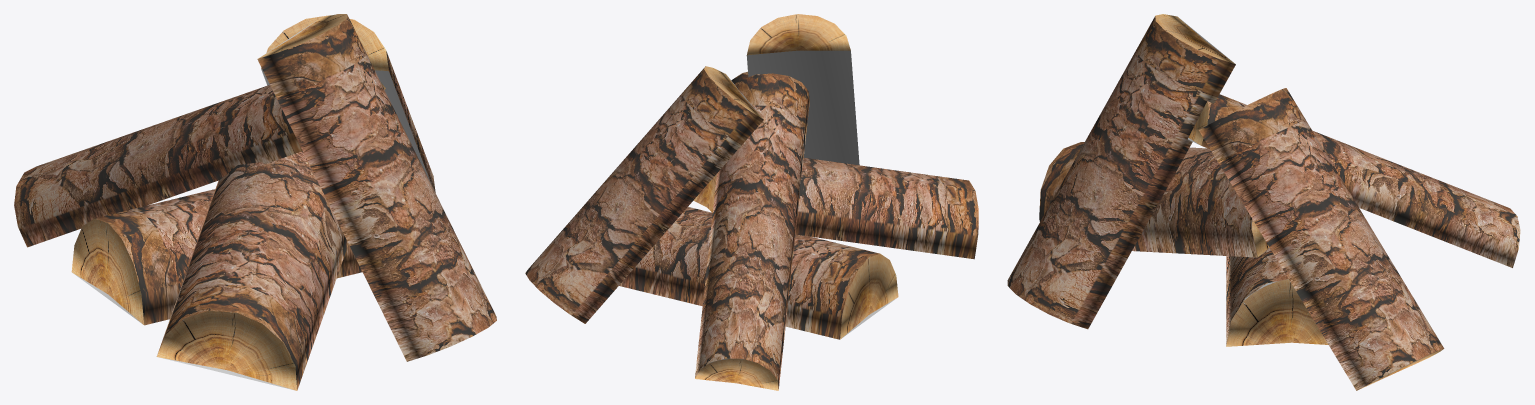
File: campfire.fbx
The picture shows the model from 3 angles, left to right: view 1: azimuth 30°, elevation 25°; view 2: azimuth 150°, elevation 25°; view 3: azimuth 270°, elevation 25°; orthographic projection. The views are drawn at different scales.
Visible parts, largest first — view 1: pasted__pasted__pasted__log (×2), pasted__pasted__pasted__pasted__pasted__log, pasted__pasted__log, pasted__pasted__pasted__pasted__log; view 2: pasted__pasted__pasted__log (×2), pasted__pasted__pasted__pasted__log, pasted__pasted__log, pasted__pasted__pasted__pasted__pasted__log; view 3: pasted__pasted__pasted__pasted__log, pasted__pasted__pasted__pasted__pasted__log, pasted__pasted__pasted__log (×2), pasted__pasted__log.
Part boxes in pixels (x1=…): pasted__pasted__pasted__log (×2): x1=14, y1=82, x2=385, y2=390; pasted__pasted__pasted__pasted__pasted__log: x1=257, y1=14, x2=496, y2=361; pasted__pasted__log: x1=71, y1=189, x2=362, y2=325; pasted__pasted__pasted__pasted__log: x1=261, y1=15, x2=435, y2=192; pasted__pasted__pasted__log (×2): x1=693, y1=71, x2=978, y2=390; pasted__pasted__pasted__pasted__log: x1=525, y1=66, x2=763, y2=323; pasted__pasted__log: x1=619, y1=207, x2=898, y2=339; pasted__pasted__pasted__pasted__pasted__log: x1=746, y1=14, x2=859, y2=165; pasted__pasted__pasted__pasted__log: x1=1198, y1=88, x2=1444, y2=390; pasted__pasted__pasted__pasted__pasted__log: x1=1007, y1=14, x2=1235, y2=329; pasted__pasted__pasted__log (×2): x1=1039, y1=94, x2=1520, y2=267; pasted__pasted__log: x1=1226, y1=247, x2=1328, y2=346.
Bounding box in the file's own units: 2.07 × 1.49 × 2.47.
